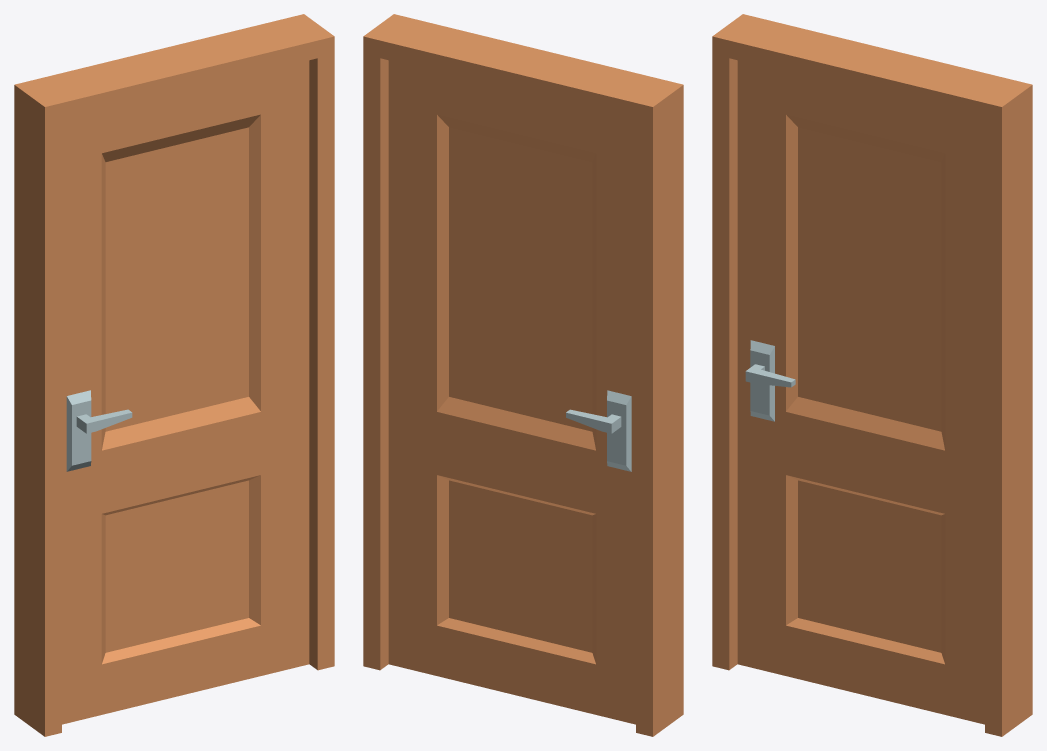
File: Doorway.glb
3 renders of one model, left to right at view 1: azimuth 30°, elevation 25°; view 2: azimuth 150°, elevation 25°; view 3: azimuth 330°, elevation 25°, orthographic.
Parts seen in each view (by area): view 1: door, doorway; view 2: door, doorway; view 3: door, doorway.
Boxes of the visible parts, x1,y1,x2,y2 form: door: (62,60,309,724); doorway: (14,14,334,736); door: (388,60,635,724); doorway: (363,14,683,736); door: (737,60,984,724); doorway: (712,14,1032,736).
Size of the model in its own units: 0.486 by 1.01 by 0.1134.
